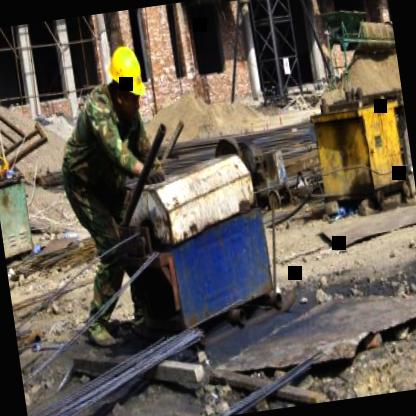helmet: (98, 35, 154, 128)
